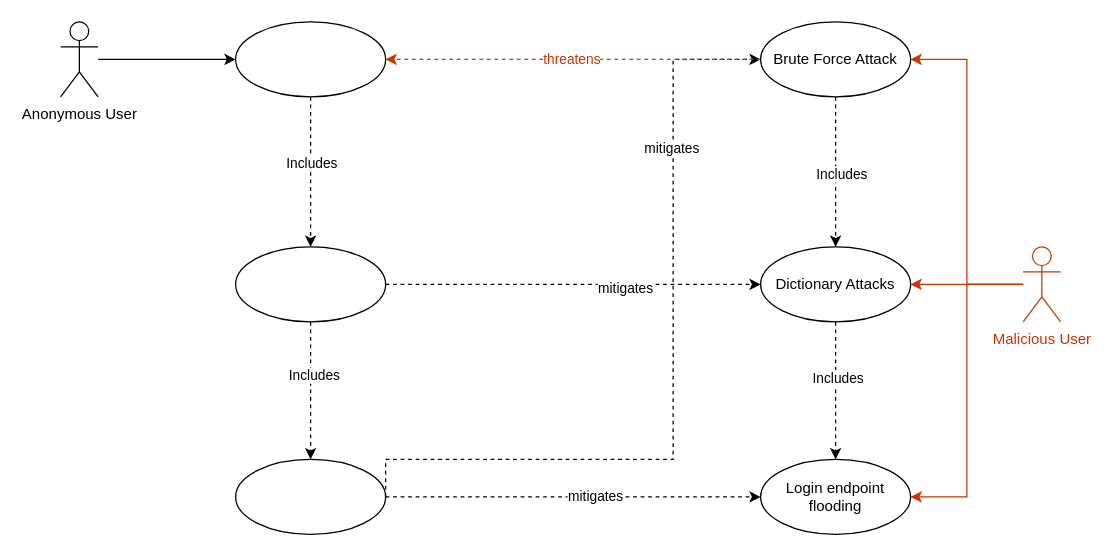
Some shapes in this 1113 by 556 pixel diagram are drawn without their labels. The box of each missing label's shape, as (x1, y1, x2, y2) in pixels:
Rate limit and lockout: (234, 458, 386, 534)
Submit credentials: (234, 21, 386, 97)
Validate and verify JWT/session: (234, 246, 386, 322)
